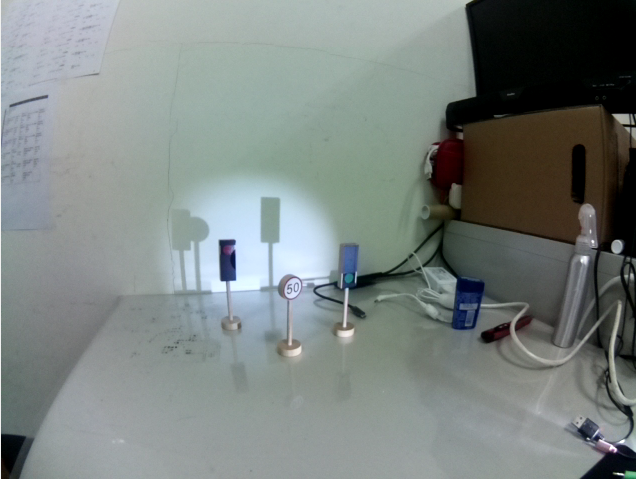Green: (336, 238, 360, 292)
Red: (218, 236, 239, 284)
Speed50: (278, 274, 304, 306)
